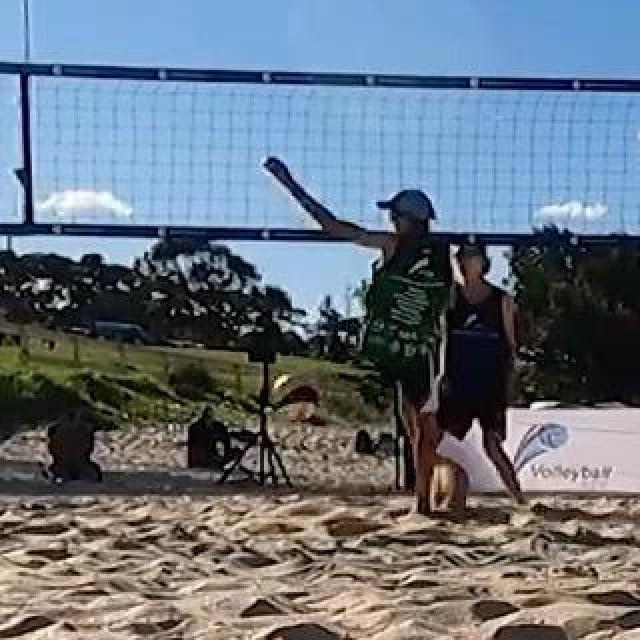volleyball: (271, 372, 319, 420)
